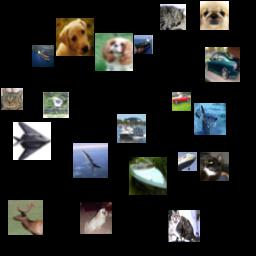airplane: (13, 122, 51, 160), (73, 143, 108, 178), (178, 152, 197, 171)
automobile: (205, 47, 240, 82), (172, 92, 191, 111)
bird: (43, 92, 69, 118)
cat: (168, 210, 200, 242), (200, 152, 229, 181), (160, 4, 186, 30), (1, 88, 23, 110)
deer: (8, 200, 43, 235), (194, 103, 226, 135)
dog: (56, 18, 94, 56), (95, 33, 133, 71), (80, 202, 112, 234), (200, 1, 229, 30)
ship: (129, 157, 167, 195), (117, 114, 146, 143), (32, 45, 54, 67), (134, 35, 153, 54)
